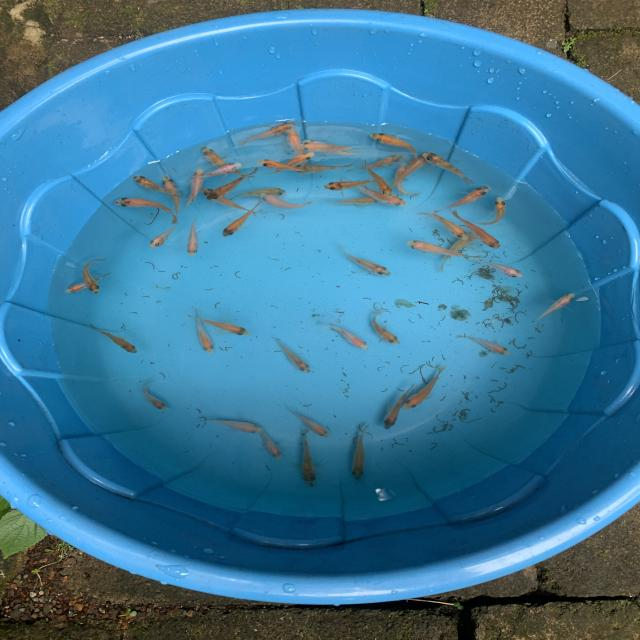nila: (401, 364, 452, 411), (437, 225, 486, 270), (204, 165, 262, 203), (198, 145, 262, 179), (405, 236, 485, 263), (420, 150, 478, 186), (113, 198, 189, 225), (312, 318, 372, 352), (338, 242, 394, 278), (453, 208, 502, 249), (202, 185, 264, 217), (220, 198, 268, 238), (431, 184, 492, 215), (383, 380, 418, 432), (88, 322, 140, 356), (528, 290, 578, 325), (268, 336, 314, 374), (154, 173, 190, 221), (183, 313, 253, 337), (241, 119, 297, 148), (415, 210, 469, 240), (129, 172, 188, 199), (286, 407, 334, 439), (389, 152, 431, 188), (353, 180, 408, 207), (366, 132, 423, 158), (456, 332, 514, 357), (298, 428, 321, 491), (265, 152, 319, 178), (145, 217, 186, 251), (350, 424, 373, 484), (282, 126, 311, 173), (367, 308, 402, 346), (474, 254, 525, 280), (361, 158, 394, 198), (300, 136, 365, 156), (342, 153, 407, 173), (66, 270, 113, 297), (191, 159, 245, 182), (193, 307, 217, 356), (320, 175, 388, 192), (252, 157, 312, 176), (204, 416, 266, 434), (260, 192, 316, 209), (226, 187, 289, 202), (255, 426, 284, 458), (184, 167, 206, 209), (81, 253, 103, 295), (139, 381, 168, 412), (289, 160, 356, 173), (480, 196, 507, 227), (294, 140, 368, 151), (325, 194, 387, 207), (185, 214, 202, 260), (394, 158, 412, 197)
